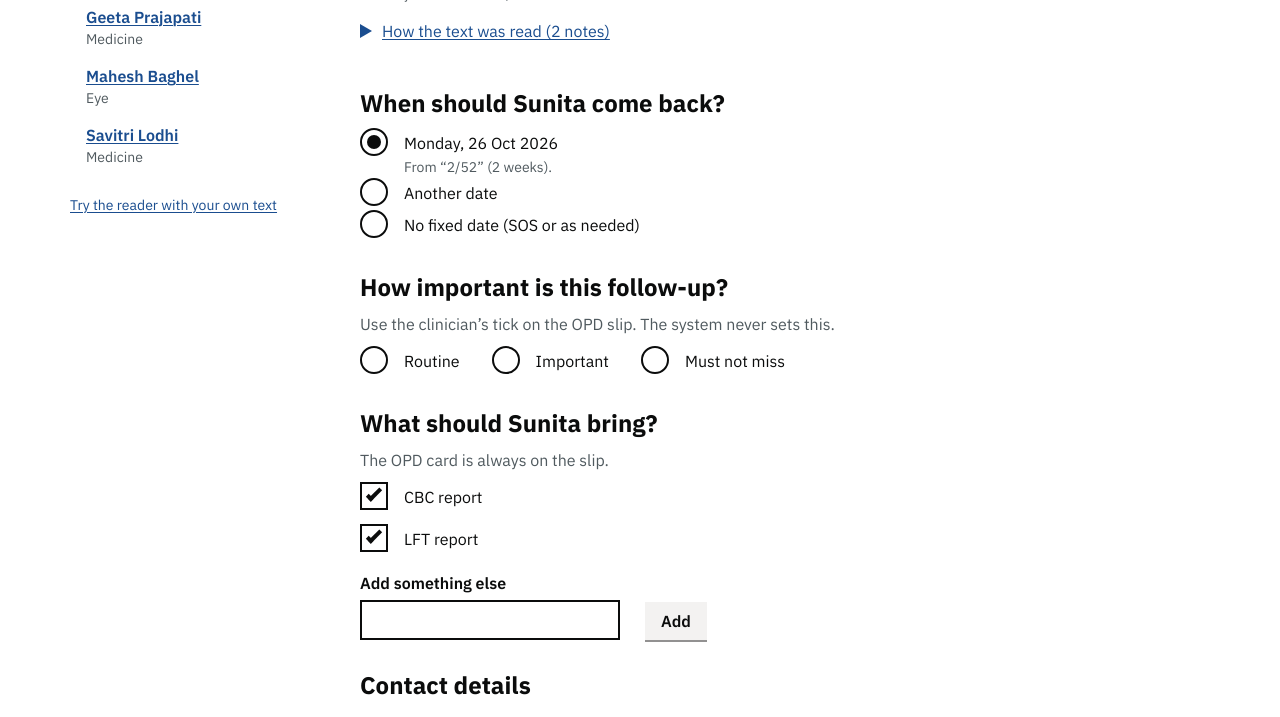
Test case: app smoke test › lets the nurse confirm a desk patient and shows the bilingual slip
This screenshot has width=1280, height=717.
(page scrolled)
Click the radio button labelled "Routine". click: (432, 360)
box: [392, 346, 472, 375]
(page scrolled)
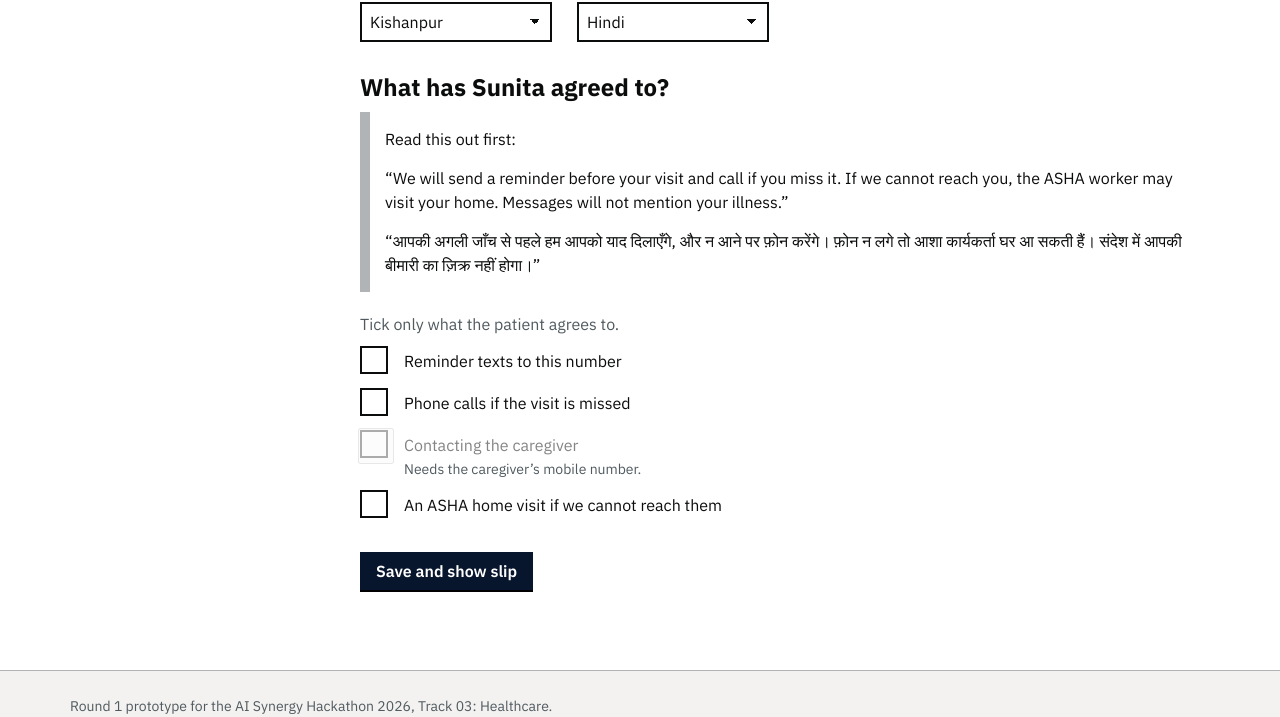
Click the checkbox labelled "Reminder texts to this number". click: (513, 360)
box: [392, 346, 634, 375]
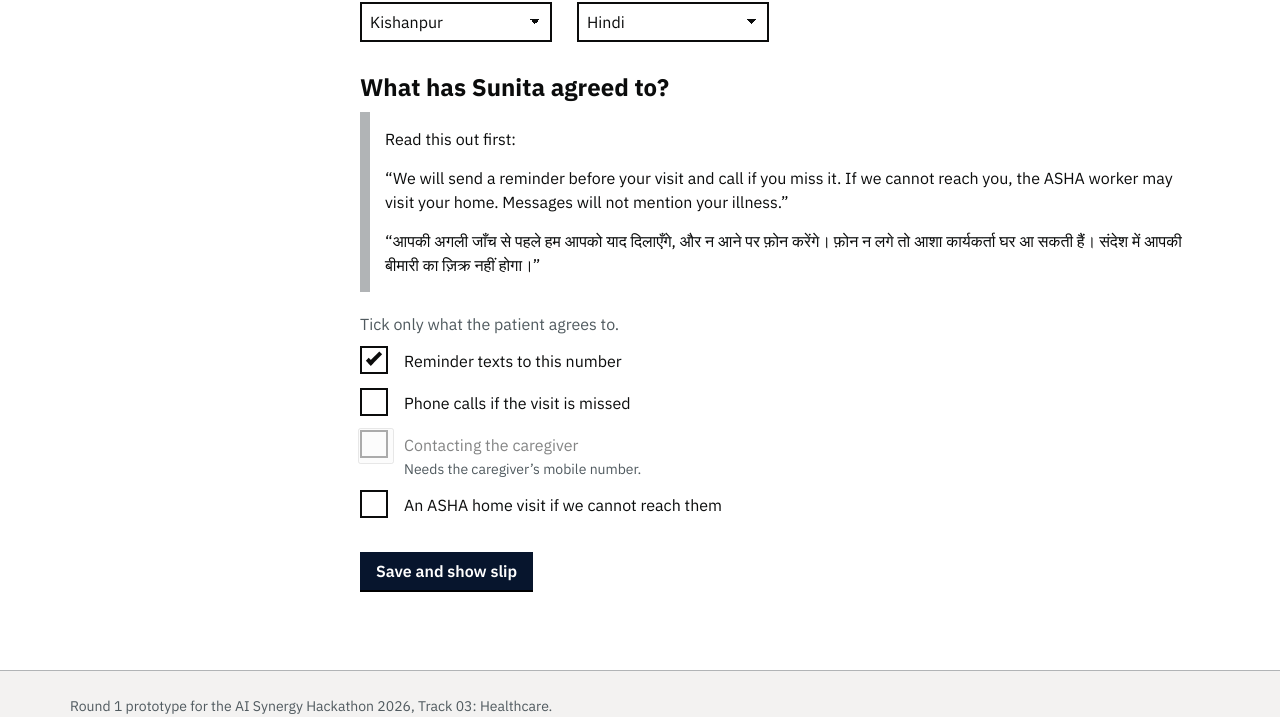
Click the button "Save and show slip". click: (447, 571)
box: [360, 552, 533, 590]
(page scrolled)
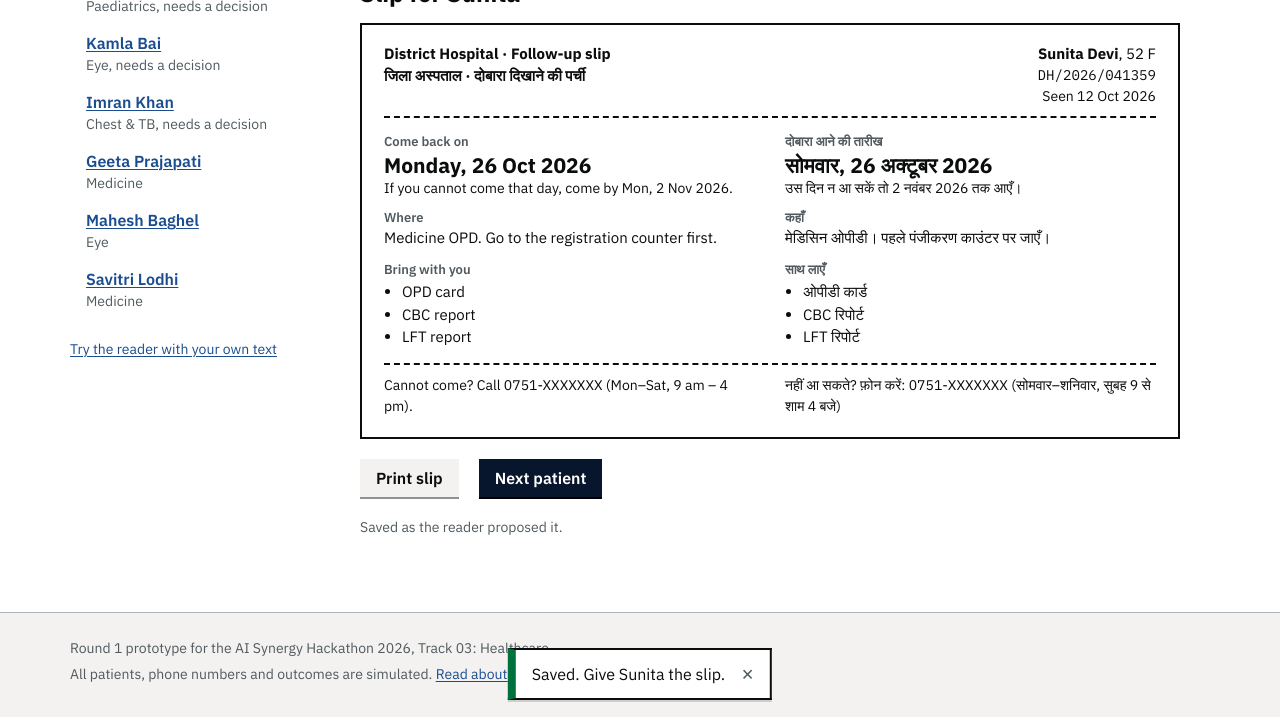
Expected: the text "District Hospital · Follow-up slip" is shown, [384, 42, 611, 65]
Expected: the text "जिला अस्पताल · दोबारा दिखाने की पर्ची" is shown, [384, 65, 611, 88]
